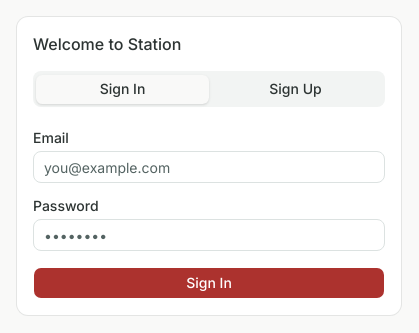
Test: AuthPage › Sign Up form › shows Sign Up form when Sign Up tab is clicked
Click the tab "Sign Up" at (296, 89), box [209,74,382,104]
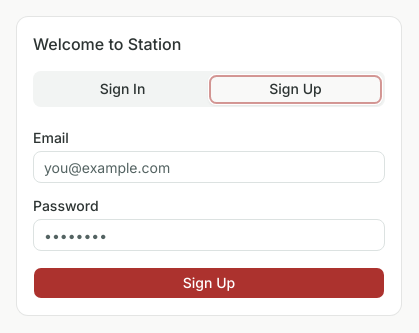
Expected: the button "Sign Up" is shown, [33,267,385,299]
